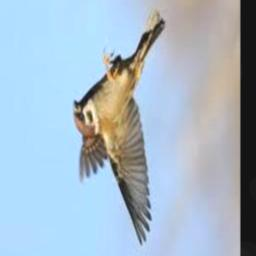Sparrow: (73, 7, 164, 245)
